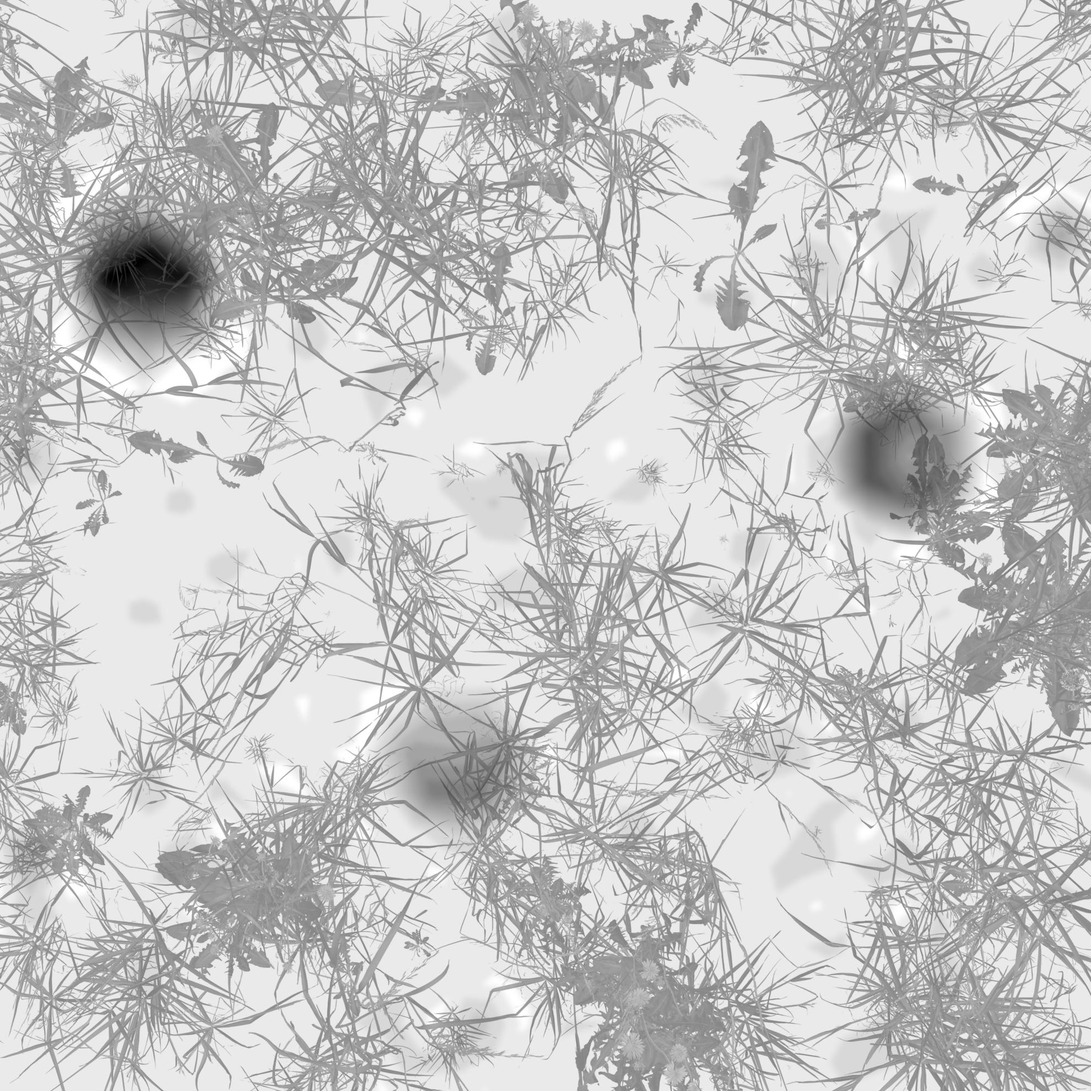landmine: (807, 373, 973, 548), (367, 682, 536, 851), (60, 206, 223, 362)
